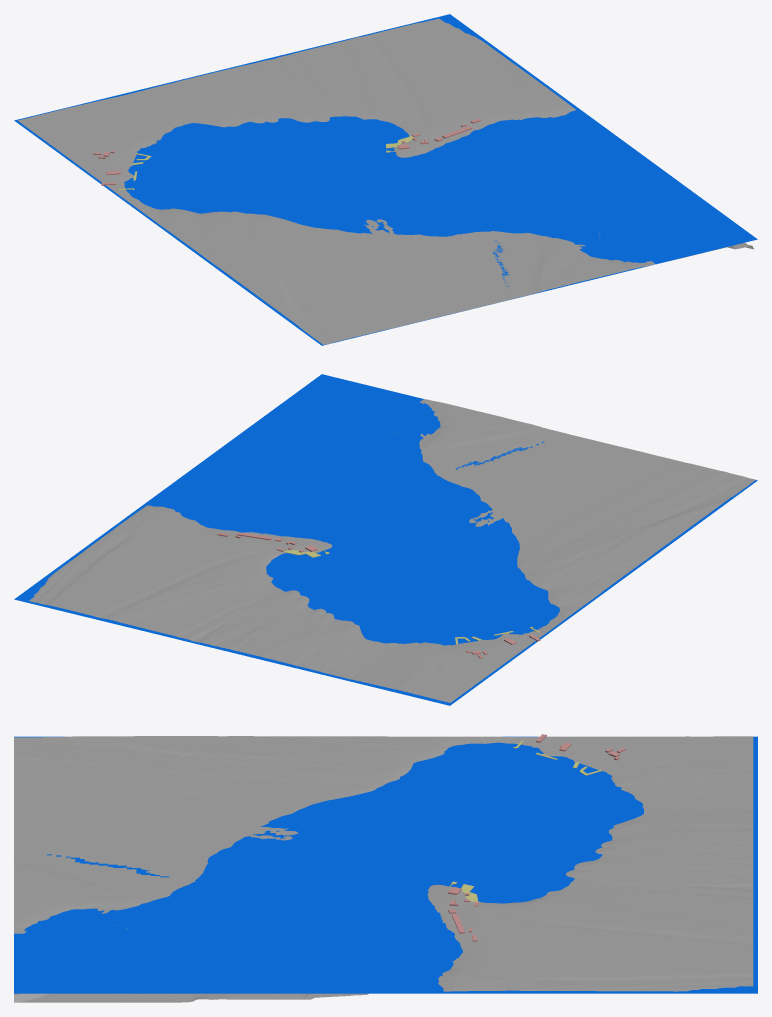
The model's file is terreno.glb.
3 renders of one model, top to bottom at view 1: azimuth 30°, elevation 25°; view 2: azimuth 150°, elevation 25°; view 3: azimuth 270°, elevation 25°, orthographic. The views are drawn at different scales.
Parts seen in each view (by area): view 1: terreno, agua; view 2: terreno, agua; view 3: terreno, agua.
Part boxes in pixels (left/top/right/bottom): terreno: left=18, top=18, right=753, bottom=344; agua: left=14, top=14, right=757, bottom=345; terreno: left=29, top=399, right=755, bottom=702; agua: left=14, top=374, right=757, bottom=705; terreno: left=14, top=736, right=753, bottom=1002; agua: left=14, top=736, right=757, bottom=993.
Bounding box in the file's own units: 1440 × 43.82 × 1756.
